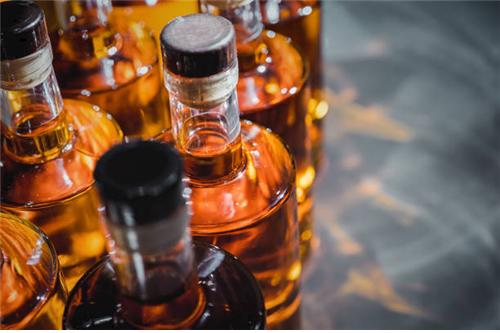alcohol: (154, 14, 302, 327), (62, 141, 266, 330), (194, 0, 324, 279), (0, 0, 121, 269)
